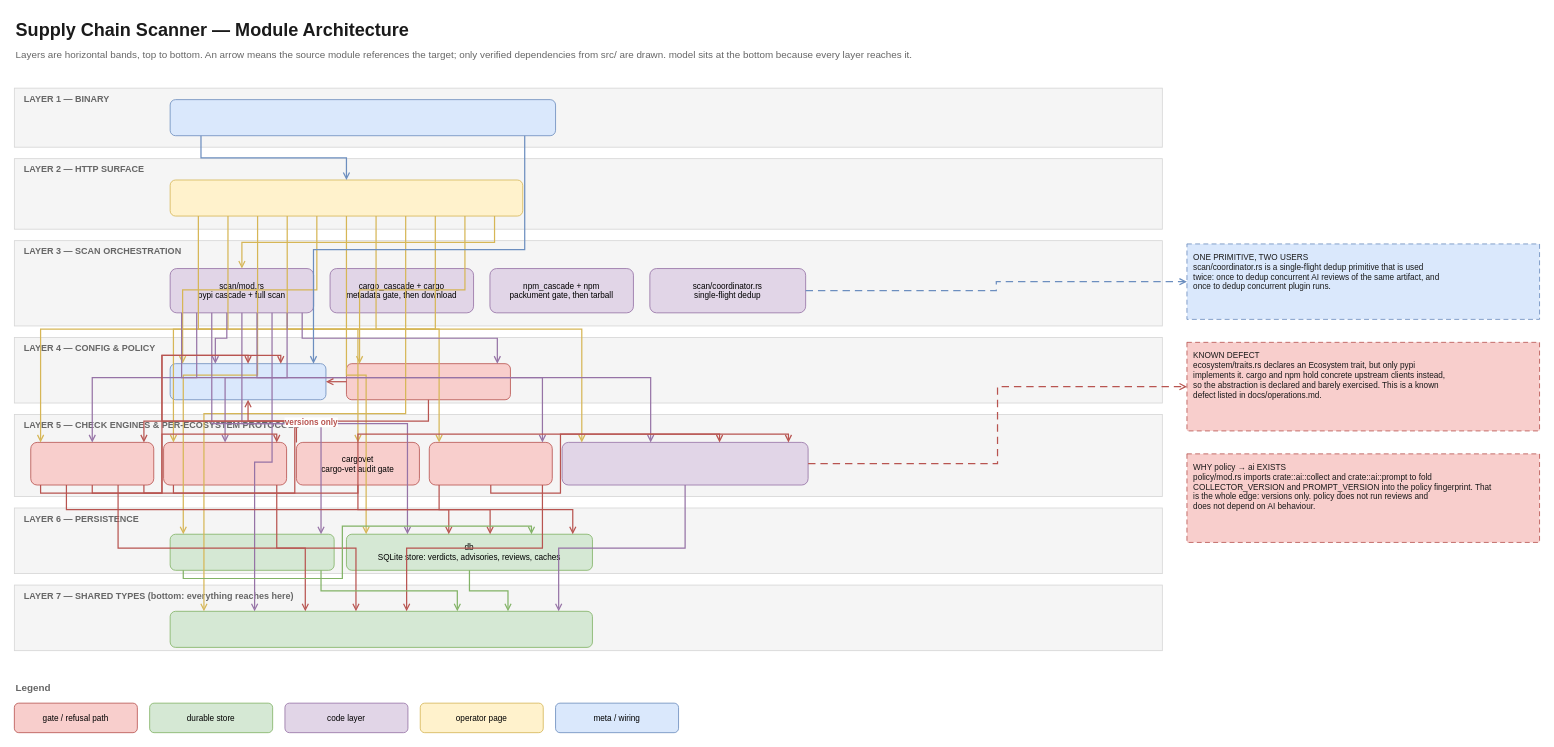
The diagram is 1554 pixels wide and 747 high, and some of its shapes have lost their labels. The centre of each missing label's shape, as x and y in pixels:
advisory OSV / CVE gate: [490,463]
ai AI review gate: [92,463]
artifact_cache verified bytes on disk: [251,551]
config load / reload: [247,381]
ecosystem per-ecosystem protocols traits.rs declares the Ecosystem trait: [684,463]
http routes · handlers · refusals · three bootstraps (one per ecosystem): [346,197]
main.rs binary entry point — three-way startup dispatch: pypi | cargo | npm: [362,117]
model — shared types every layer above depends on it; it depends on nothing: [380,628]
plugin org plugin gate: [225,463]
policy policy fingerprint: [428,381]
